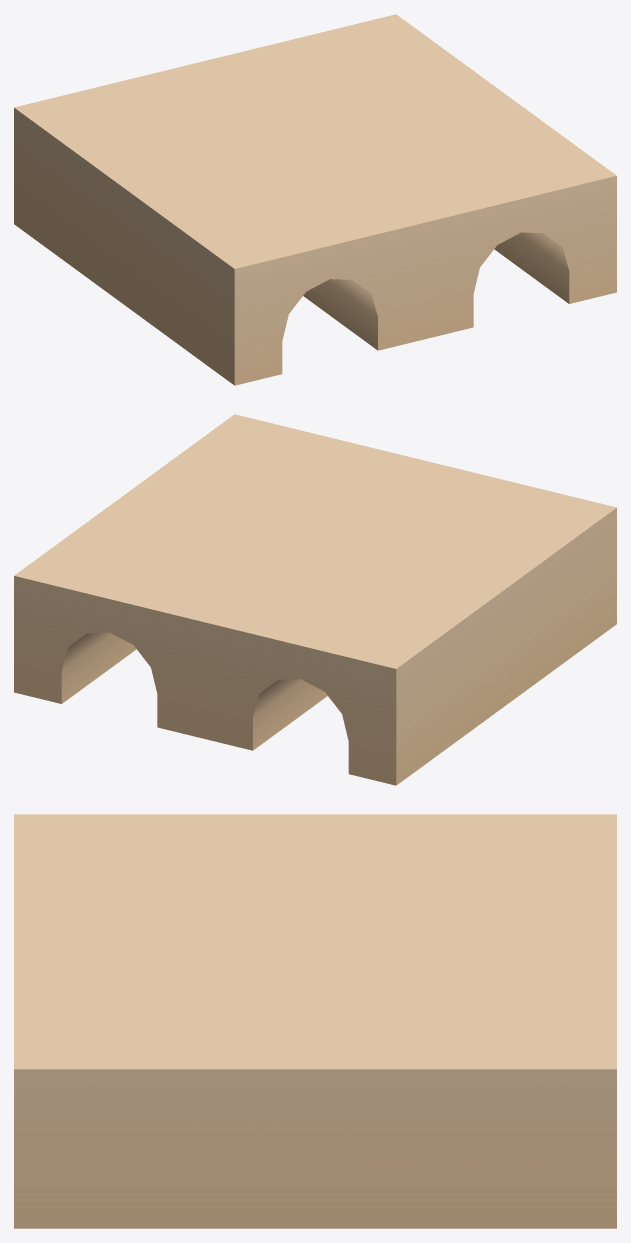
File: structure-gates.glb
3 renders of one model, top to bottom at view 1: azimuth 30°, elevation 25°; view 2: azimuth 150°, elevation 25°; view 3: azimuth 270°, elevation 25°, orthographic. The views are drawn at different scales.
Parts seen in each view (by area): view 1: structure-gates; view 2: structure-gates; view 3: structure-gates.
Boxes of the visible parts, x1=… form: structure-gates: x1=14, y1=14, x2=616, y2=385; structure-gates: x1=14, y1=414, x2=616, y2=785; structure-gates: x1=14, y1=814, x2=616, y2=1228.
Bounding box in the file's own units: 0.7999 × 0.2333 × 0.7999.
Materials: 1 (1 with a texture image).
